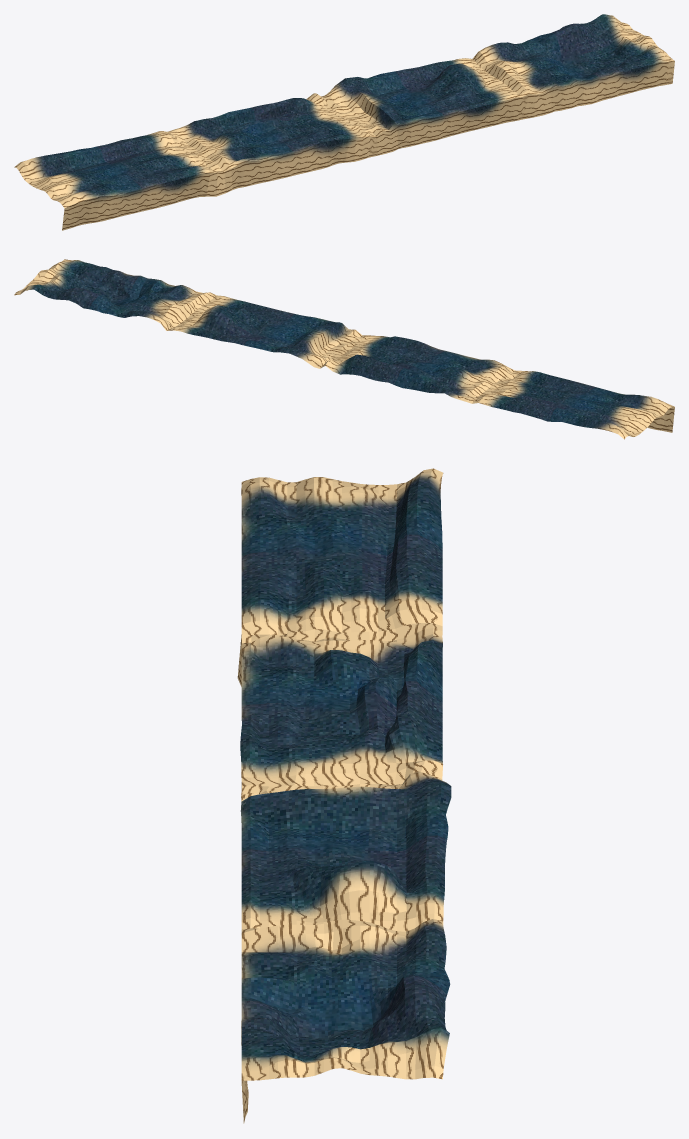
The model's file is Sea Floor Meshes V1.fbx.
3 views of the same model, one above another, from view 1: azimuth 30°, elevation 25°; view 2: azimuth 150°, elevation 25°; view 3: azimuth 270°, elevation 25° (orthographic). The views are drawn at different scales.
Visible parts, largest first — view 1: Ground 4.001, Ground 2.001, Ground 3.001, Ground 1.001; view 2: Ground 3.001, Ground 1.001, Ground 2.001, Ground 4.001; view 3: Ground 4.001, Ground 1.001, Ground 3.001, Ground 2.001.
Part boxes in pixels (x1,y1,x2,y2): Ground 4.001: [472, 14, 674, 120]; Ground 2.001: [321, 58, 522, 157]; Ground 3.001: [14, 131, 217, 230]; Ground 1.001: [167, 93, 370, 196]; Ground 3.001: [472, 371, 674, 439]; Ground 1.001: [320, 335, 521, 403]; Ground 2.001: [167, 295, 367, 368]; Ground 4.001: [14, 259, 216, 330]; Ground 4.001: [241, 919, 450, 1123]; Ground 1.001: [237, 623, 442, 788]; Ground 3.001: [241, 468, 443, 635]; Ground 2.001: [240, 771, 451, 931].
Size of the model in its own units: 56098 by 3556 by 8496.
Materials: 1 (1 with a texture image).
